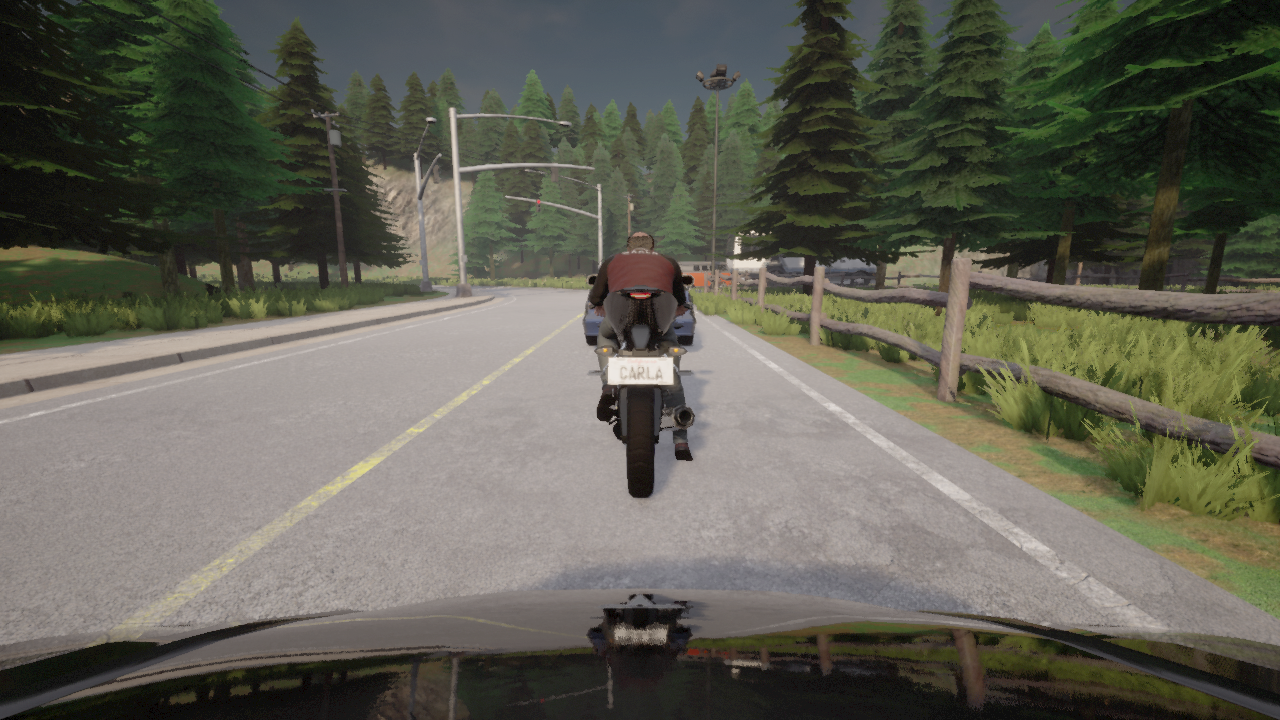cyclist: (0, 588, 1279, 719), (587, 274, 694, 497), (726, 231, 876, 286), (582, 286, 695, 344), (678, 262, 731, 290)
pedestrian: (280, 273, 283, 281)
